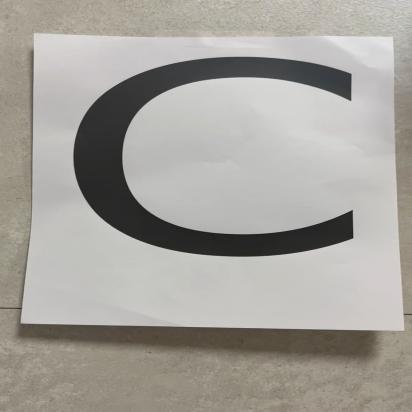seat: (37, 37, 402, 329)
